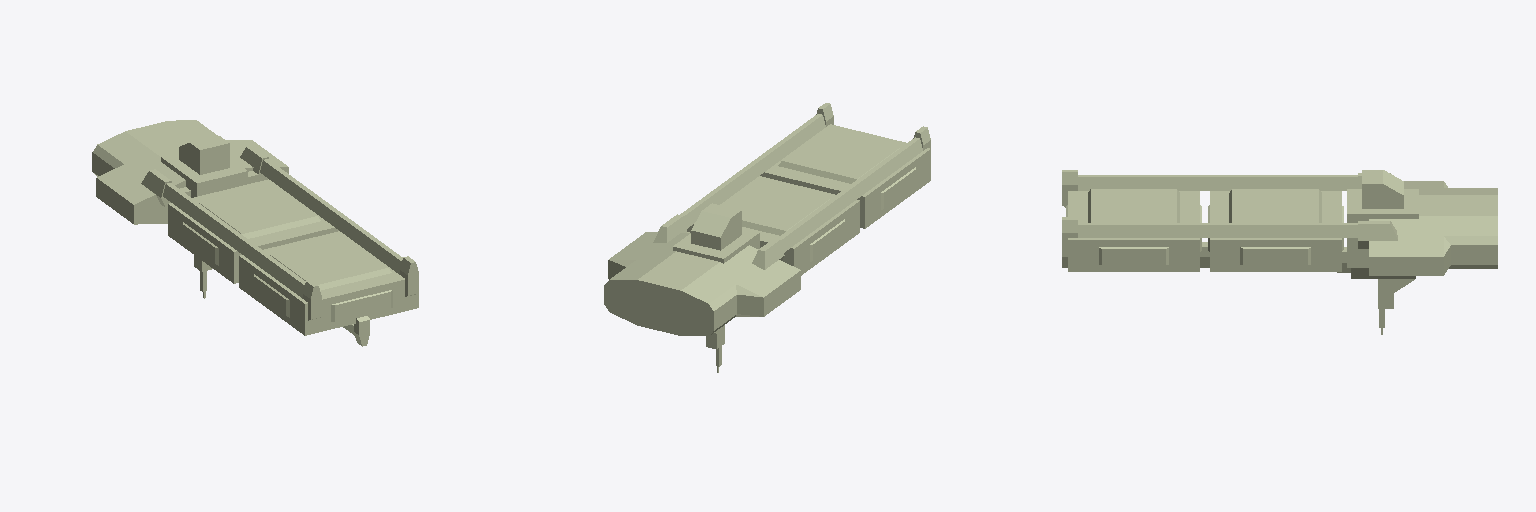
Rendered from support_saiyoyama_1.obj.
3 views of the same model, side by side, from view 1: azimuth 30°, elevation 25°; view 2: azimuth 150°, elevation 25°; view 3: azimuth 270°, elevation 25° (orthographic).
Visible parts, largest first — view 1: Cube.006_Cube, Cube, Cube.004_Cube.008, Cube.005_Cube.009, Cube.002_Cube.006; view 2: Cube.005_Cube.009, Cube.006_Cube, Cube.004_Cube.008, Cube, Cube.002_Cube.006; view 3: Cube.004_Cube.008, Cube.005_Cube.009, Cube, Cube.006_Cube, Cube.002_Cube.006.
Part boxes in pixels (left/top/right/bottom): Cube.006_Cube: left=239, top=231, right=418, bottom=335; Cube: left=168, top=179, right=338, bottom=283; Cube.004_Cube.008: left=141, top=145, right=418, bottom=320; Cube.005_Cube.009: left=92, top=120, right=288, bottom=224; Cube.002_Cube.006: left=161, top=136, right=247, bottom=298; Cube.005_Cube.009: left=604, top=232, right=800, bottom=336; Cube.006_Cube: left=760, top=124, right=930, bottom=228; Cube.004_Cube.008: left=653, top=103, right=930, bottom=269; Cube: left=687, top=176, right=859, bottom=275; Cube.002_Cube.006: left=673, top=203, right=759, bottom=372; Cube.004_Cube.008: left=1062, top=170, right=1397, bottom=255; Cube.005_Cube.009: left=1369, top=181, right=1497, bottom=275; Cube: left=1208, top=189, right=1343, bottom=271; Cube.006_Cube: left=1066, top=189, right=1201, bottom=271; Cube.002_Cube.006: left=1347, top=170, right=1418, bottom=334.
Bounding box in the file's own units: 6.17 × 6.02 × 14.98.